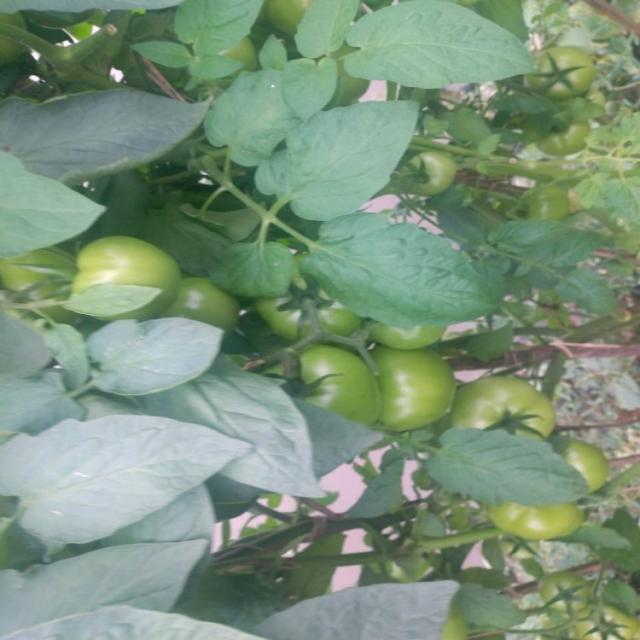tomato: (271, 330, 372, 426), (74, 232, 185, 312), (363, 334, 465, 419), (256, 265, 368, 341), (453, 365, 561, 440), (155, 265, 255, 341), (527, 37, 607, 101), (544, 420, 614, 492), (494, 495, 594, 541), (394, 142, 466, 205), (569, 592, 640, 640), (535, 108, 595, 155), (366, 307, 436, 347), (511, 178, 572, 217), (544, 570, 591, 610)
